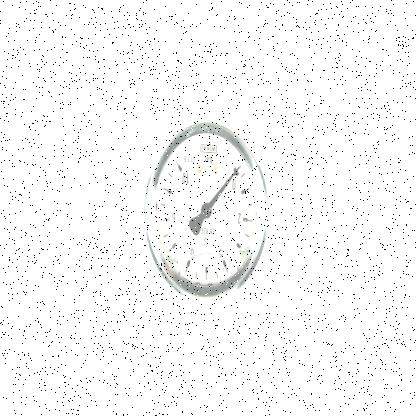needle: (208, 166, 240, 209)
